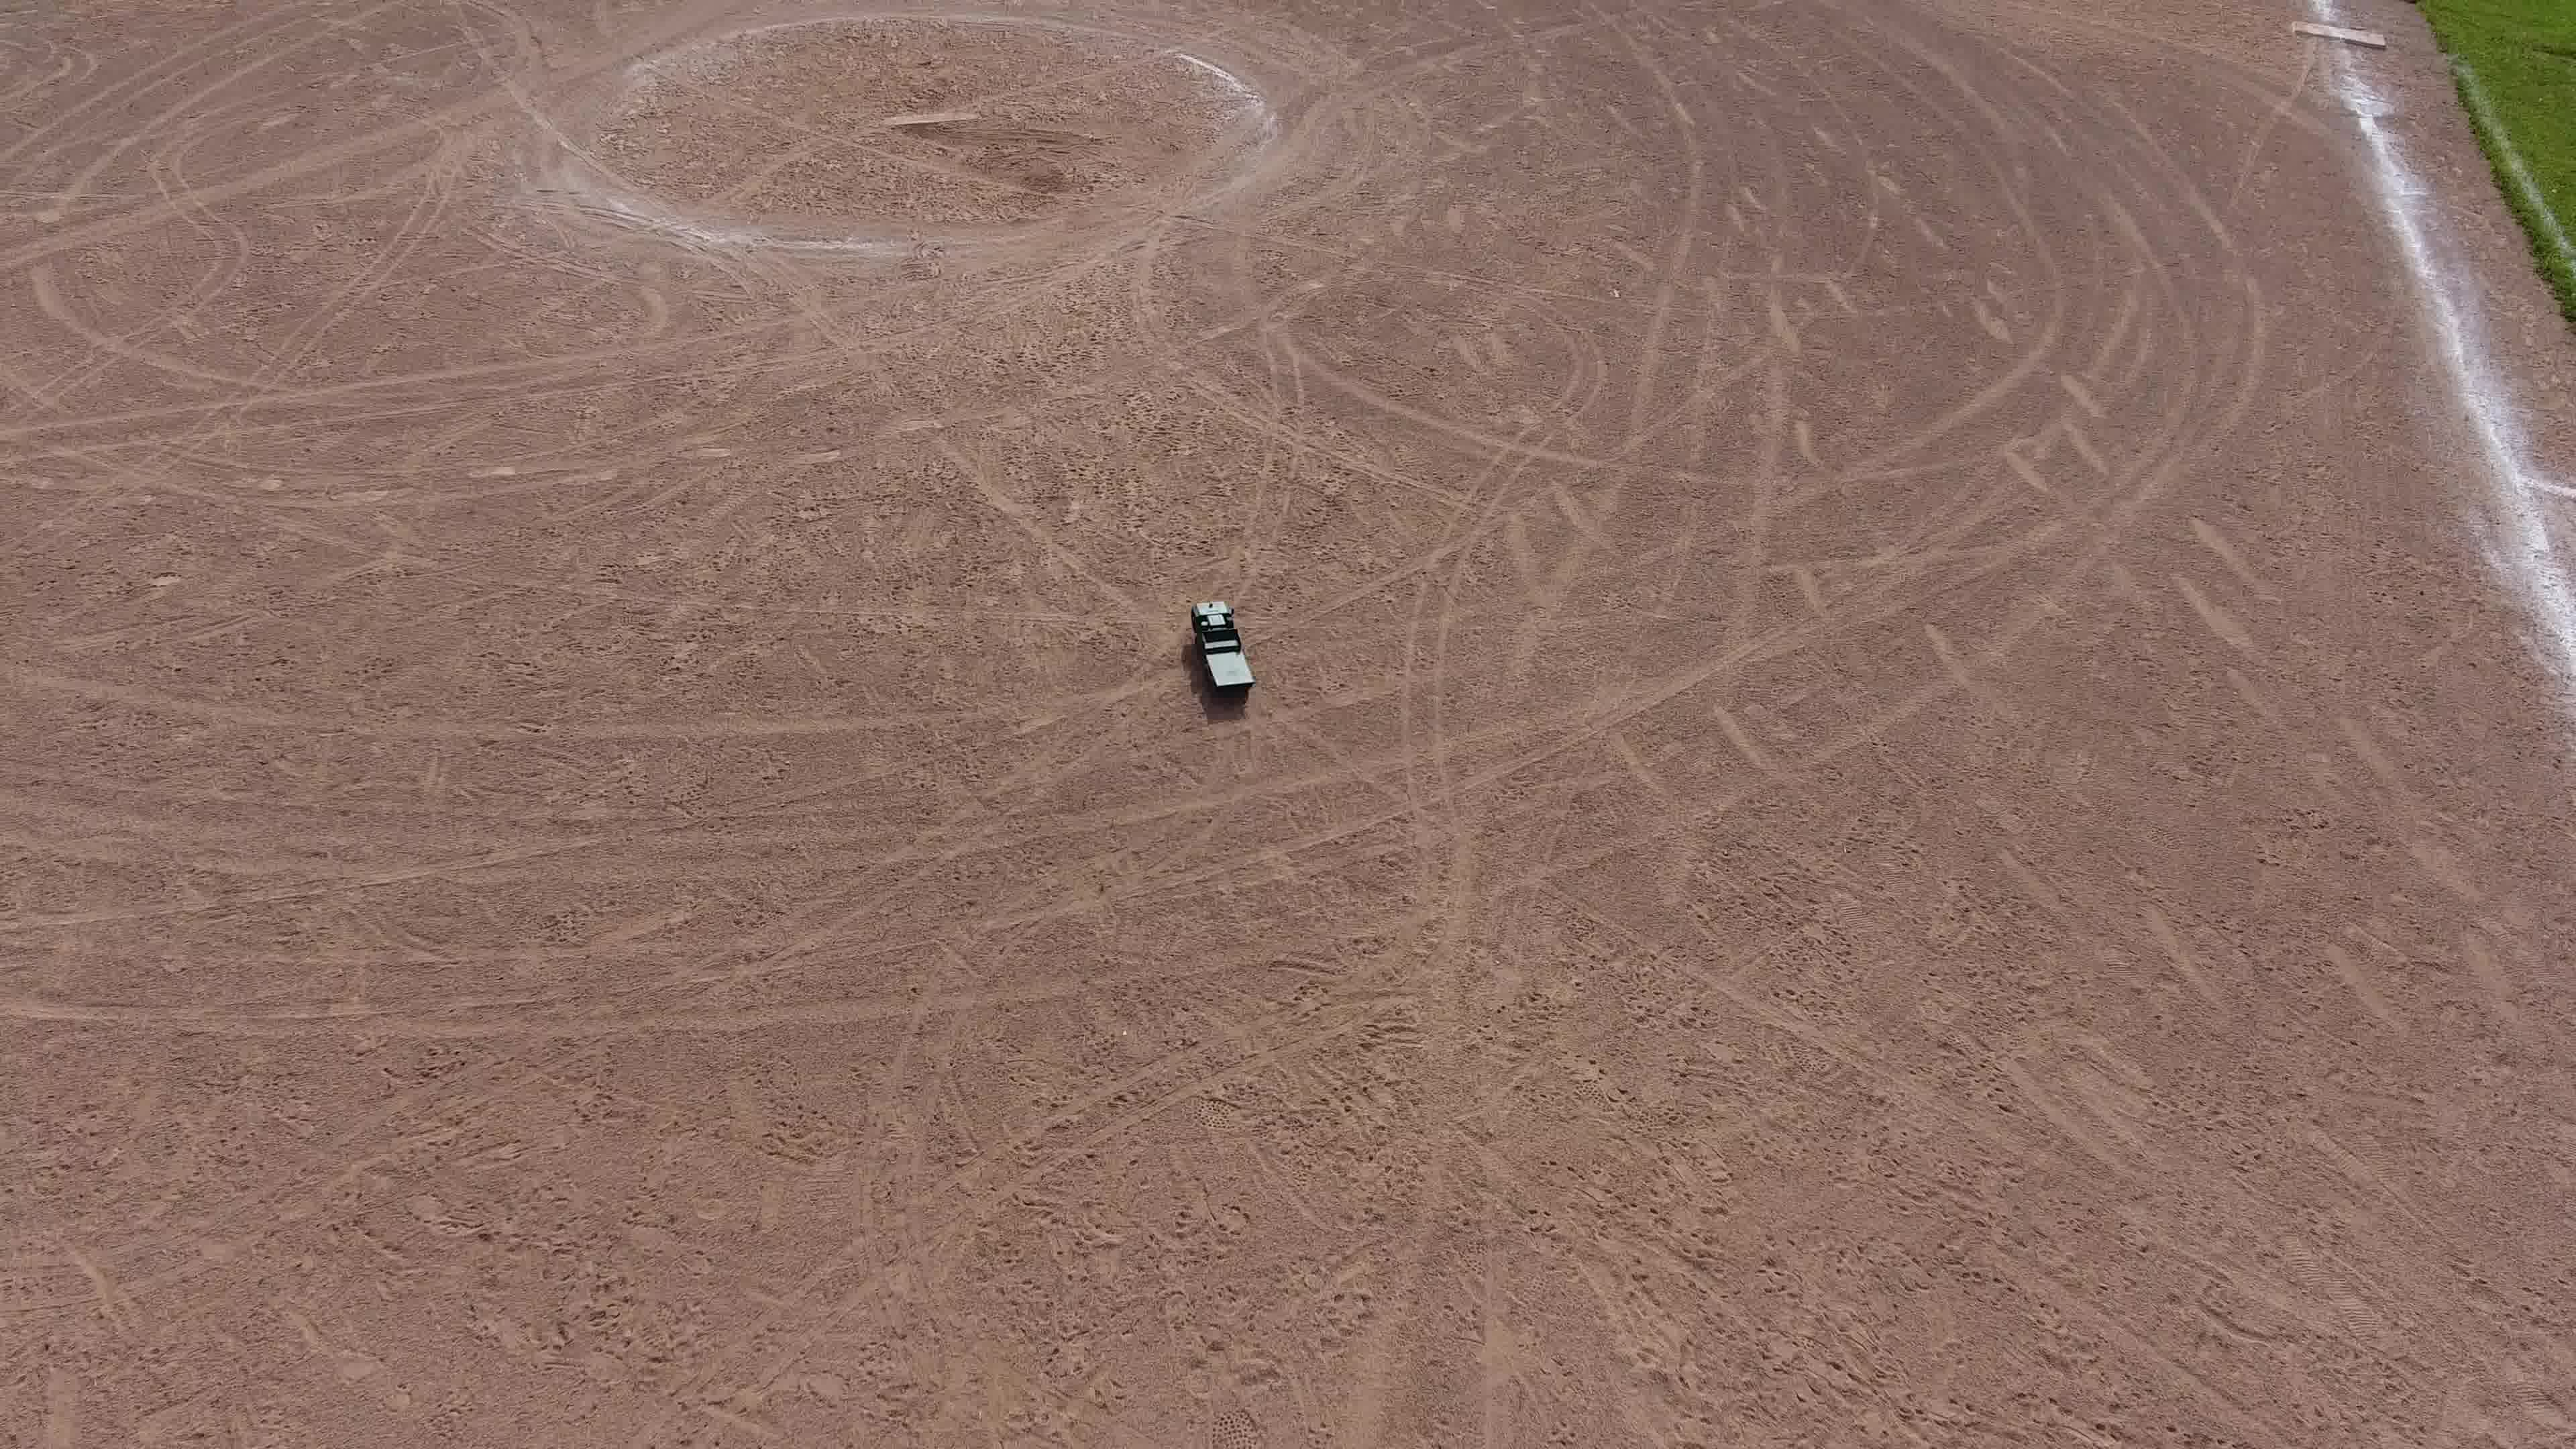transporter9: (1180, 598, 1261, 699)
